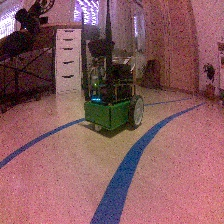rob: (83, 62, 144, 132)
